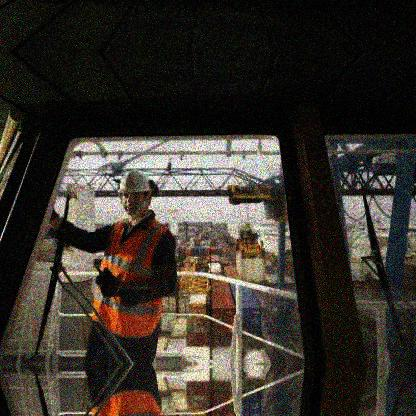helmet: (117, 170, 152, 215)
